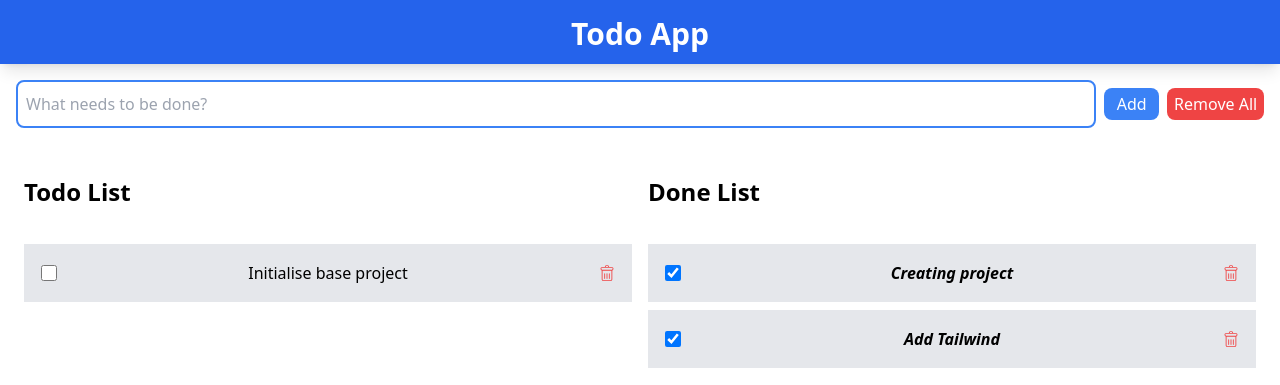
Test: should disable the remove button when there are no todos
The width and height of the screenshot is (1280, 385).
Click the button "Remove All". click: (1216,104)
box: [1167, 88, 1264, 120]
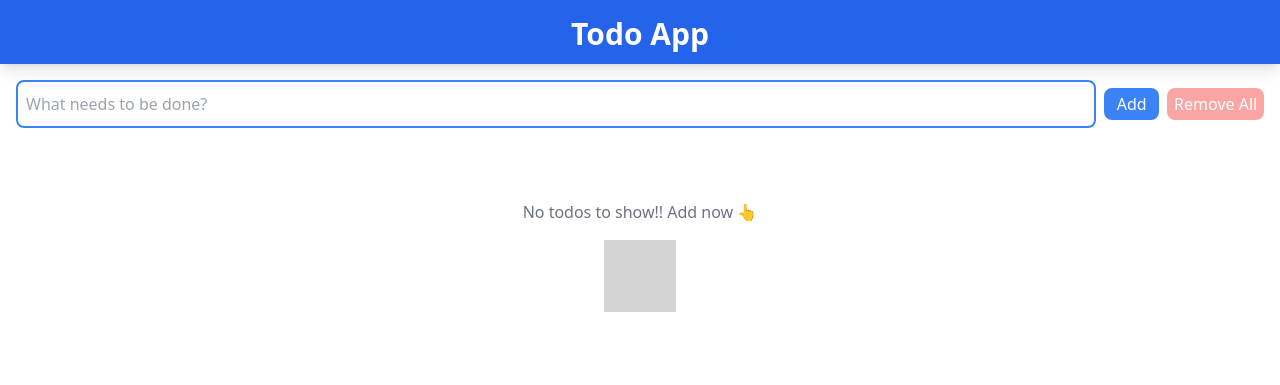
expect the button "Remove All" is disabled: met, box [1167, 88, 1264, 120]
